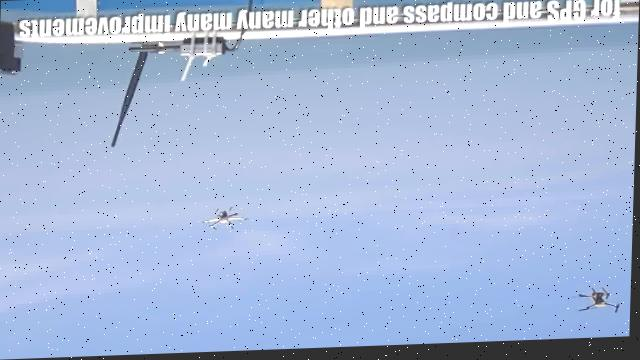drone: (562, 274, 633, 336)
